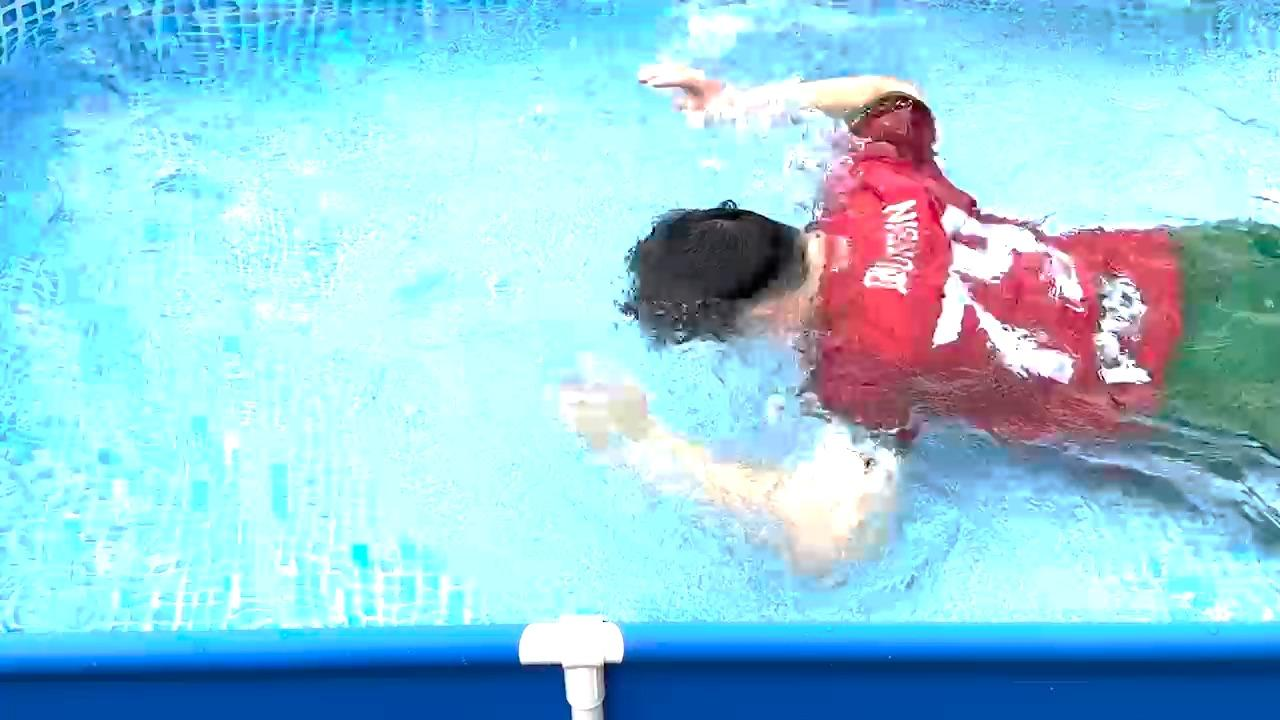Drowning: (400, 40, 1280, 628)
